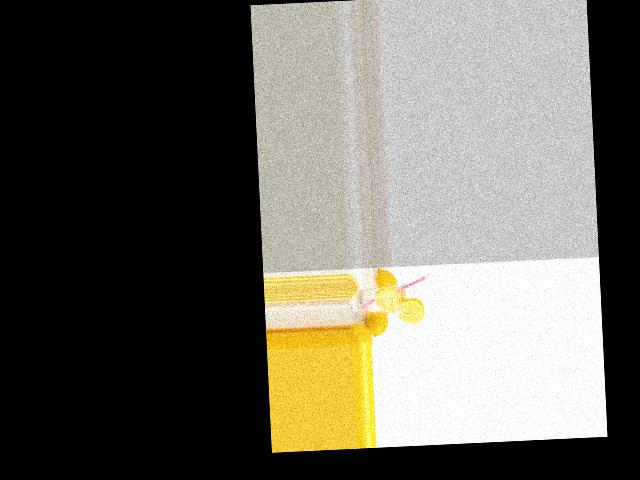lemon: (372, 268, 398, 293)
